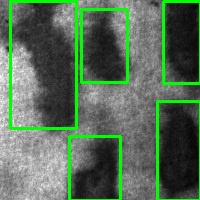patches: (10, 1, 76, 128), (157, 101, 200, 200), (81, 9, 127, 82), (69, 136, 120, 200), (163, 1, 200, 83)
